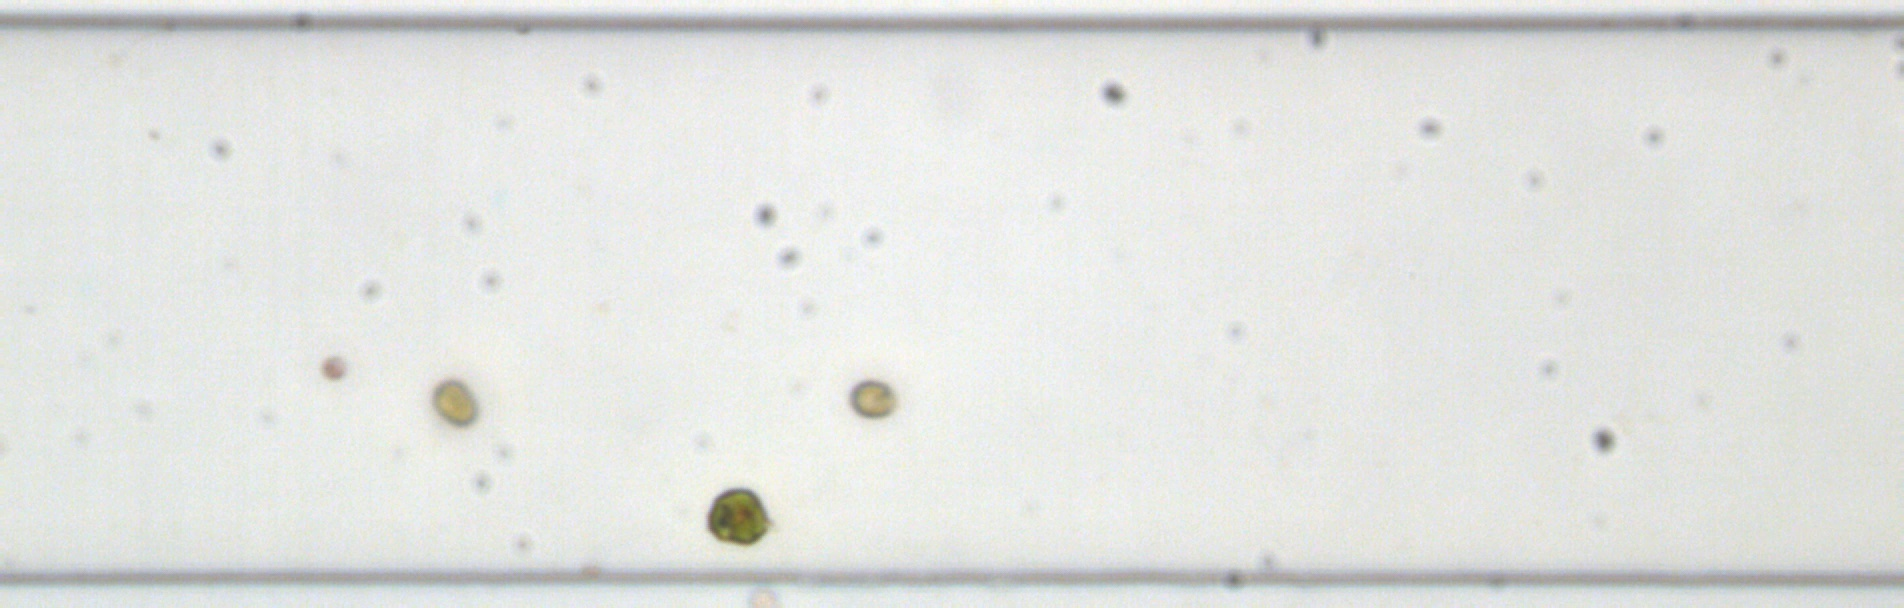Effrenium: (430, 375, 478, 434), (845, 375, 899, 420)
Haematococcus: (704, 485, 770, 549)
Porphyridium: (317, 353, 352, 383)
